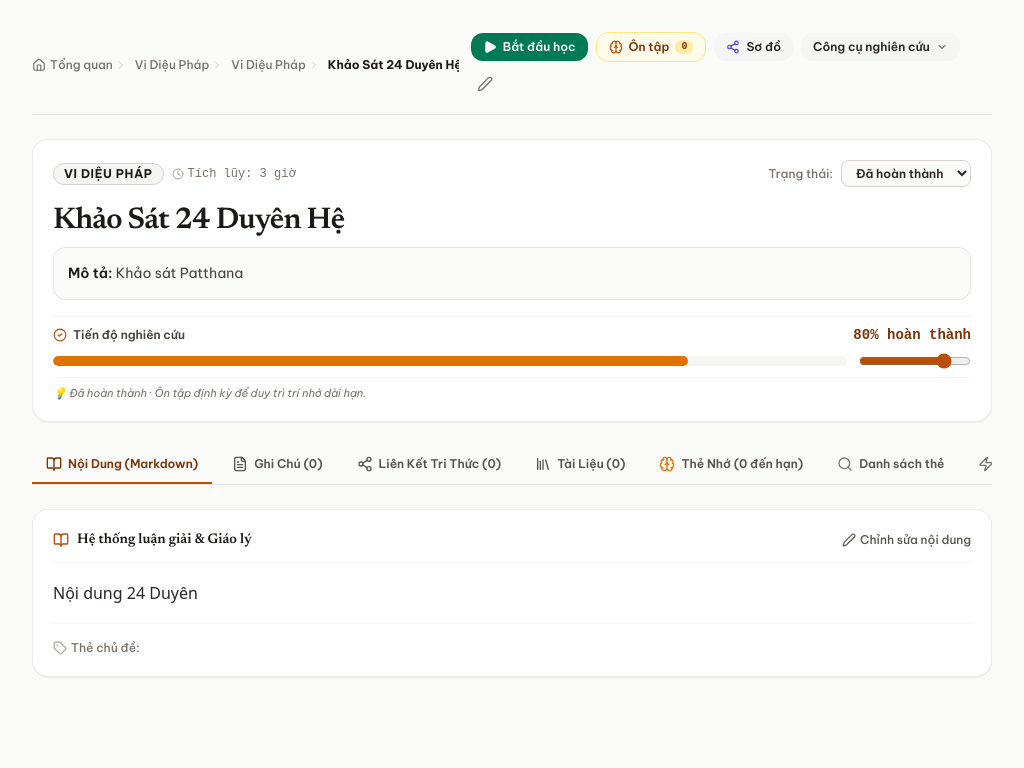
Test case: TopicDetail Resilience & Safe Collection Rendering › 4. renders 'Liên kết ghi chú Obsidian' button in resources tab and opens modal
Switch to resources tab
Click the button "Tài Liệu (0)". click: click(580, 465)
box: [521,446,640,484]
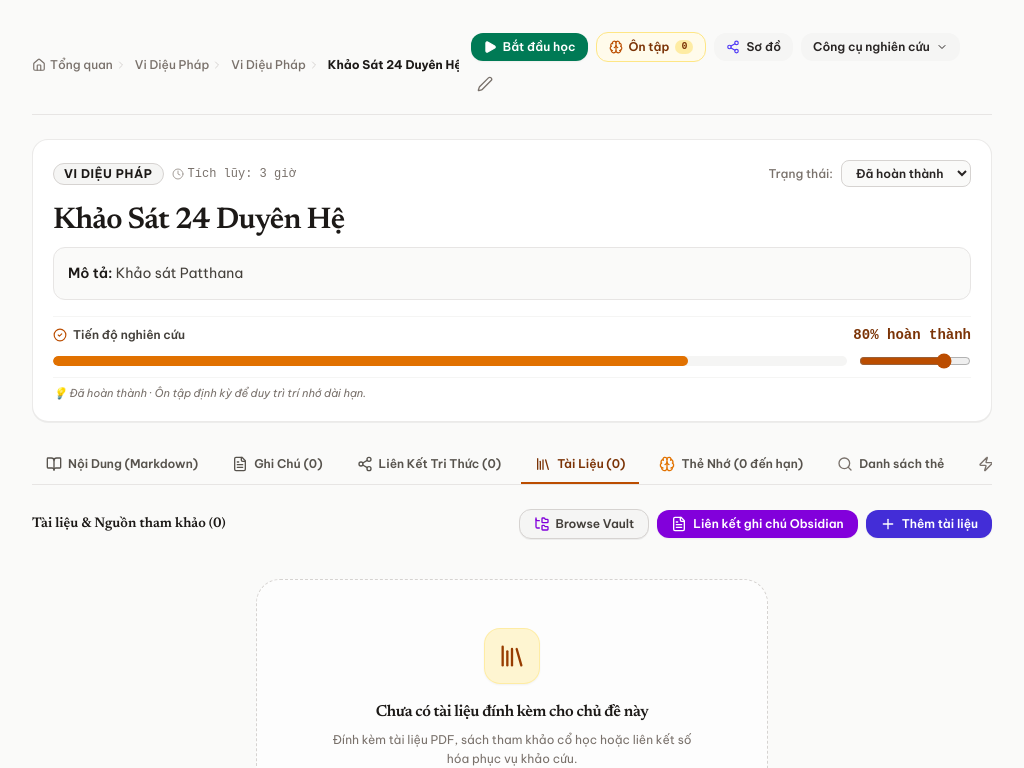
Expected: the button "Liên kết ghi chú Obsidian" is shown
Clicking CTA opens ObsidianTopicResourceLinkModal
Click the button "Liên kết ghi chú Obsidian". click: click(758, 524)
box: [657,510,858,538]
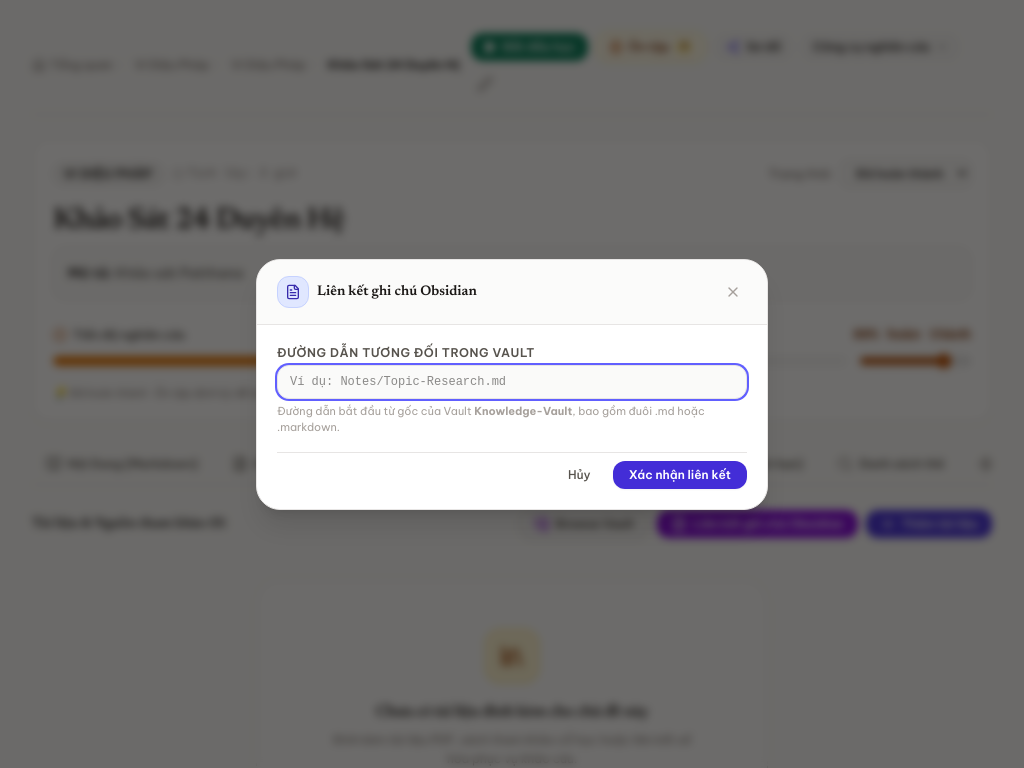
Expected: the field labelled "Đường dẫn tương đối trong Vault" is shown, [277,364,747,398]
